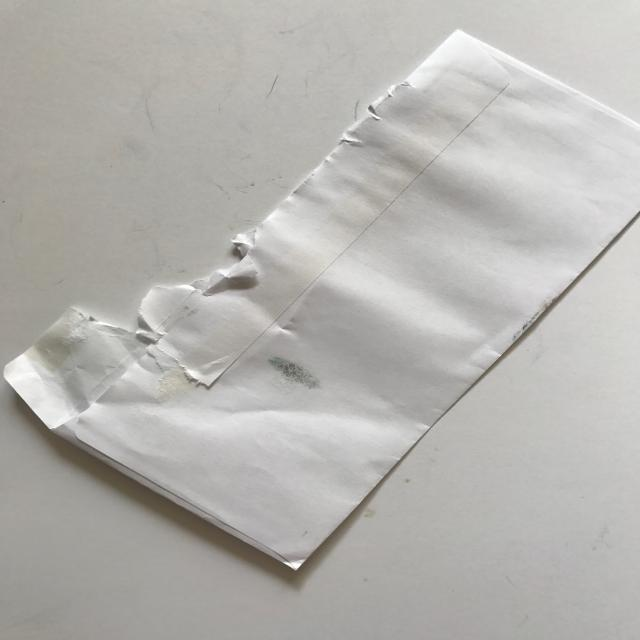paper: (2, 28, 639, 572)
